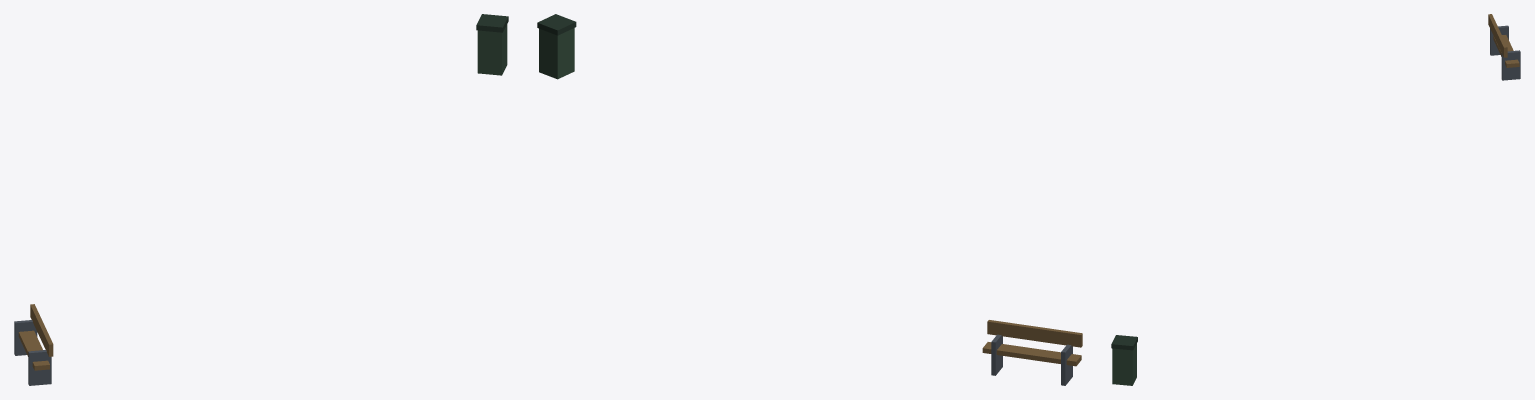
File: cell-0_-630.glb
3 views of the same model, side by side, from view 1: azimuth 90°, elevation 25°; view 2: azimuth 150°, elevation 25°; view 3: azimuth 270°, elevation 25° (orthographic). The views are drawn at different scales.
Parts seen in each view (by area): view 1: cell-0_-630; view 2: cell-0_-630; view 3: cell-0_-630.
Part boxes in pixels (x1=…): cell-0_-630: x1=14, y1=14, x2=508, y2=385; cell-0_-630: x1=537, y1=14, x2=1082, y2=385; cell-0_-630: x1=1111, y1=14, x2=1520, y2=385.
Bounding box in the file's own units: 7.69 × 0.8183 × 4.37.
